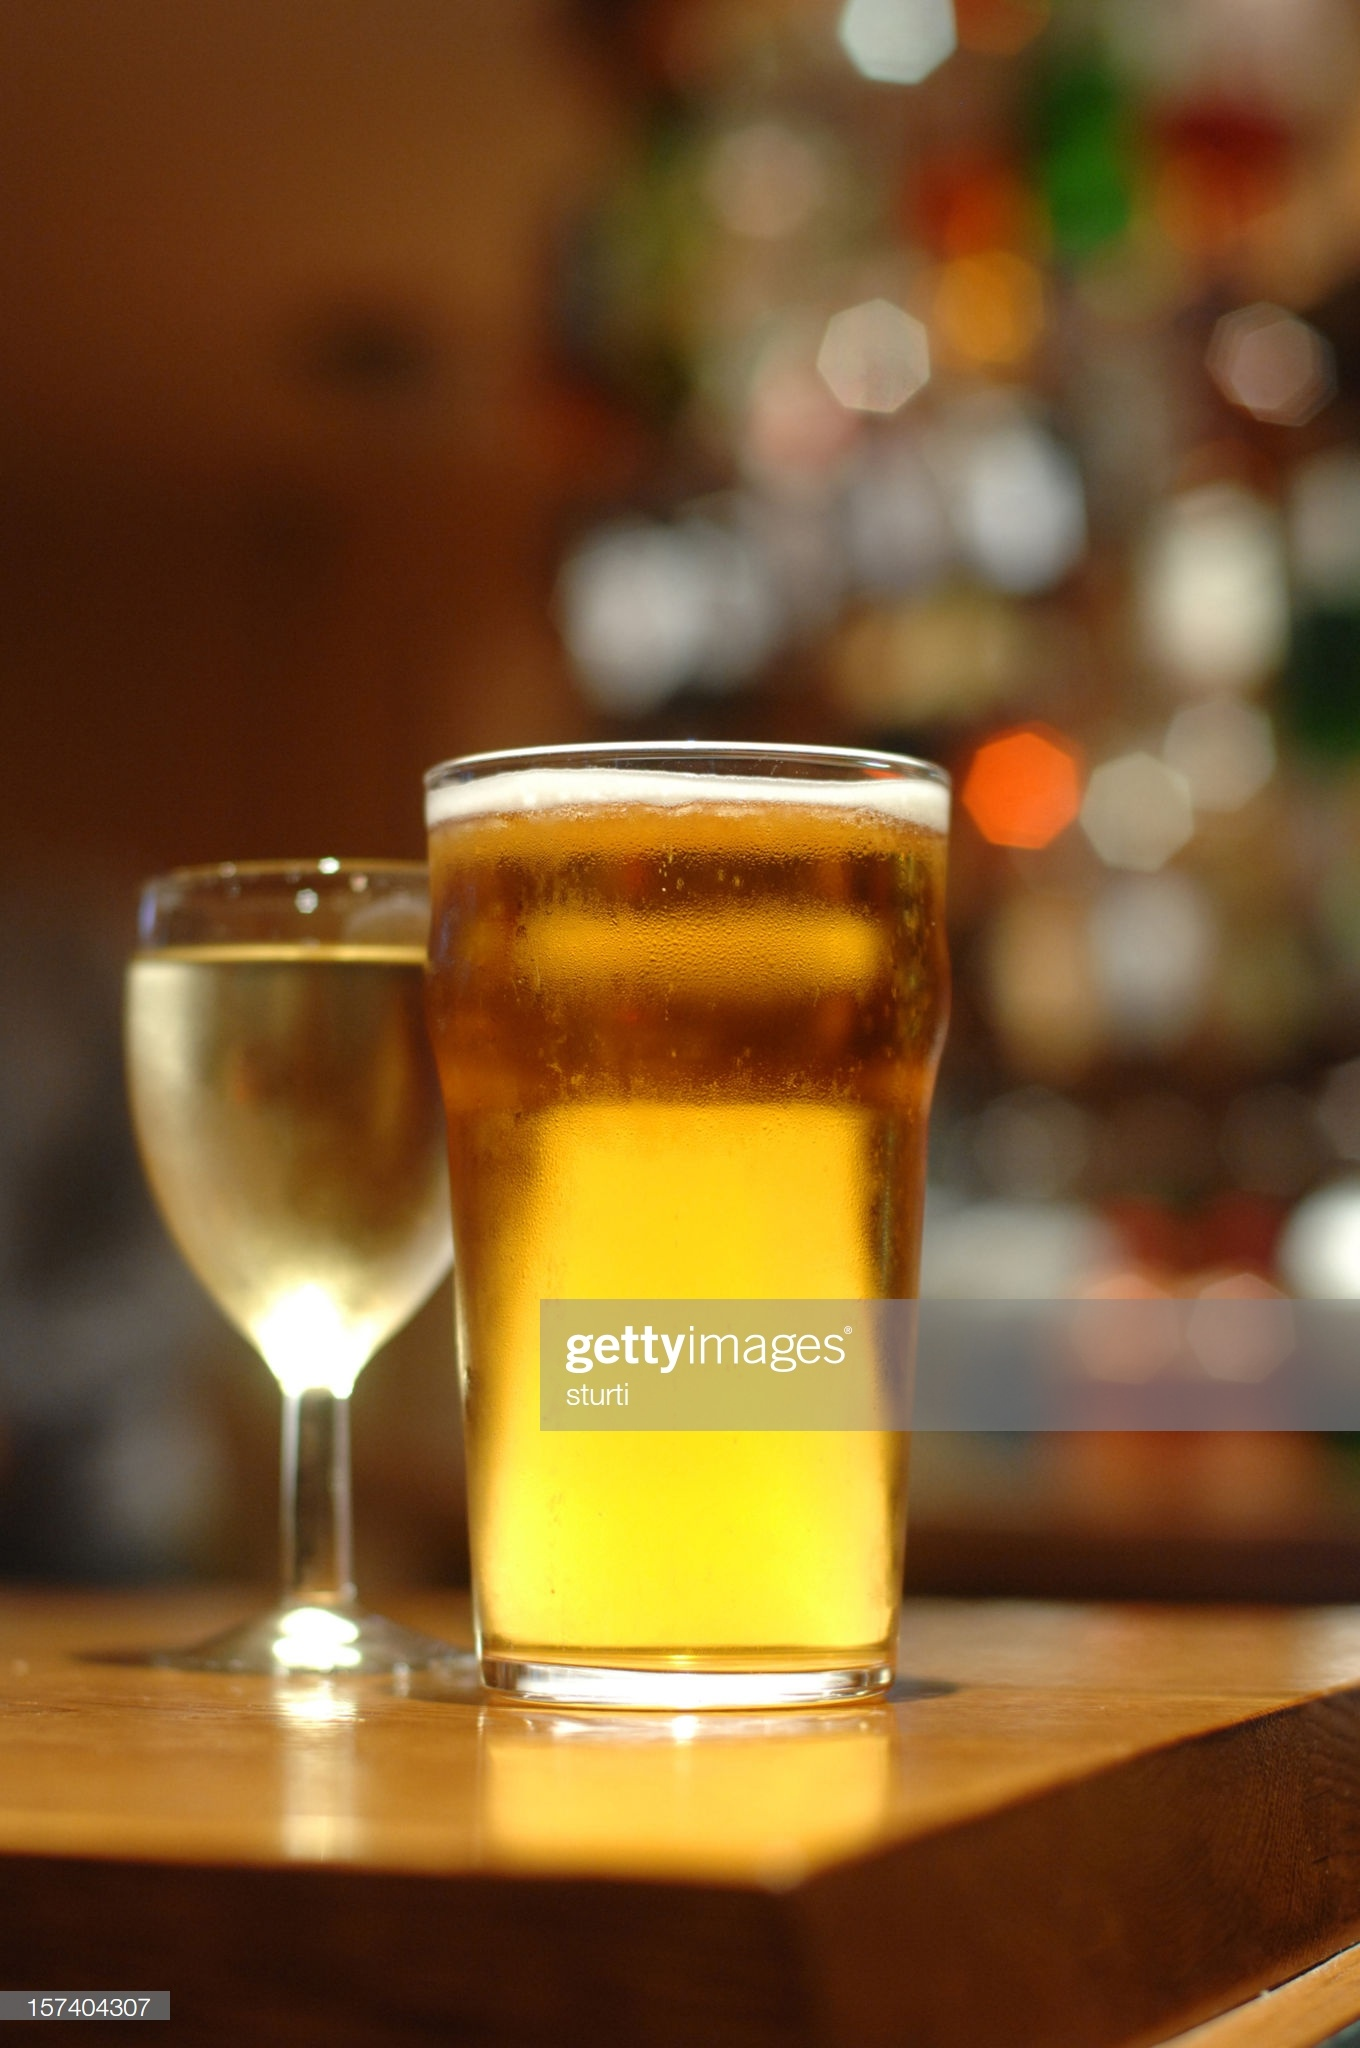glassBeer: (422, 708, 941, 1708)
